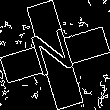N_S: (29, 25, 81, 85)
